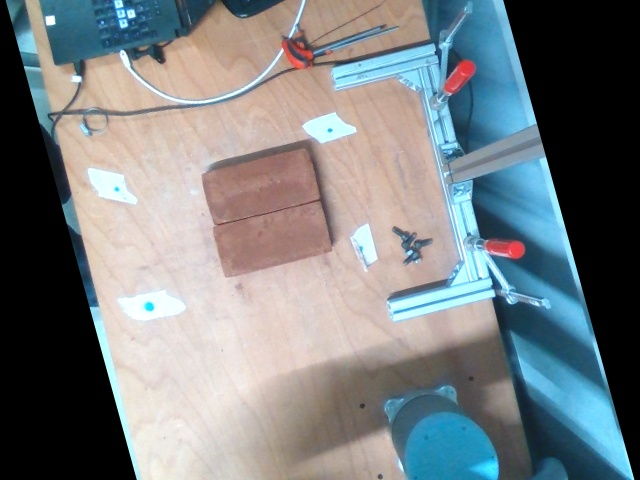brick: (213, 201, 331, 279), (200, 149, 318, 226)
